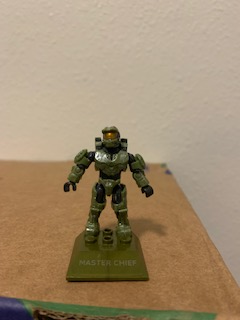chief: (58, 122, 154, 239)
spartan: (60, 124, 156, 241)
